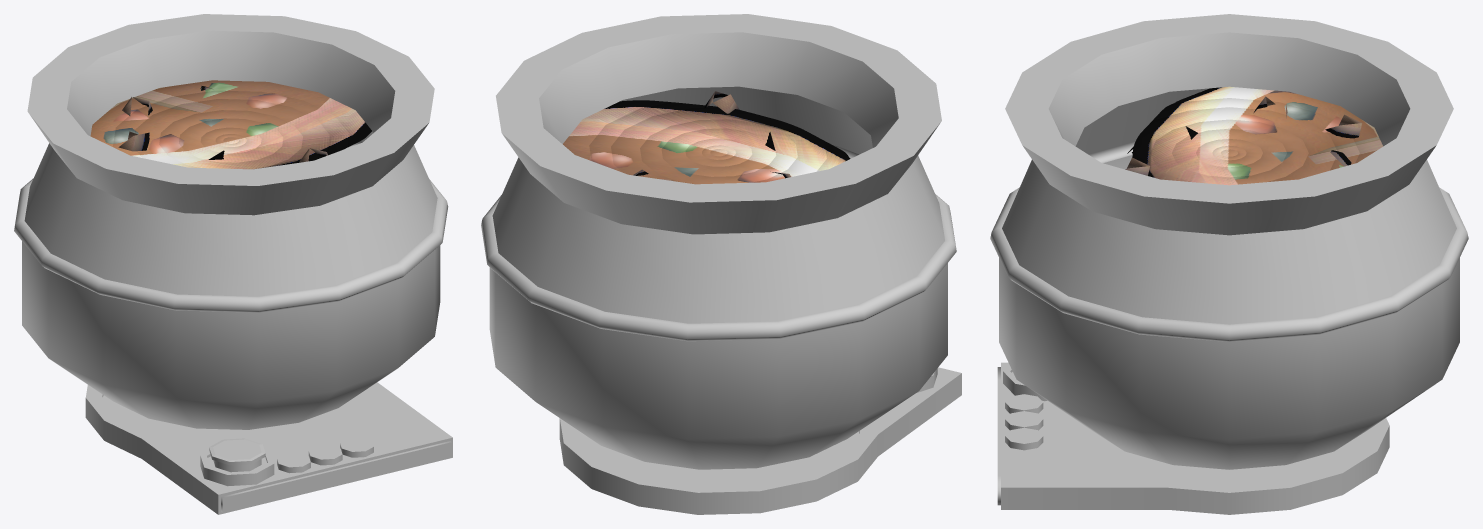
Rendered from cooker.fbx.
The picture shows the model from 3 angles, left to right: view 1: azimuth 30°, elevation 25°; view 2: azimuth 150°, elevation 25°; view 3: azimuth 270°, elevation 25°; orthographic projection. The views are drawn at different scales.
Visible parts, largest first — view 1: Cylinder; view 2: Cylinder; view 3: Cylinder.
Part boxes in pixels (x1,y1,x2,y2): Cylinder: (14,14,452,514); Cylinder: (481,14,961,514); Cylinder: (990,14,1468,514).
Size of the model in its own units: 246 by 192 by 246.
